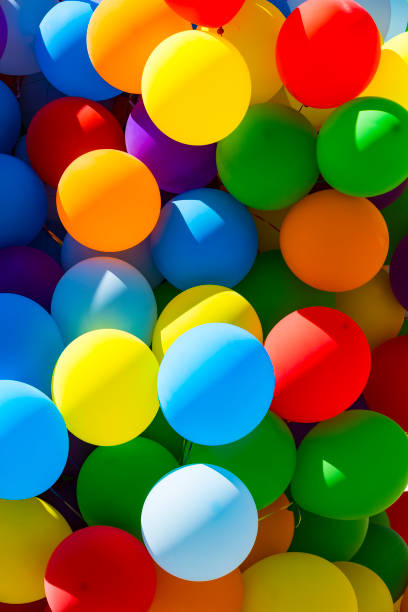Balloon: (158, 323, 274, 446), (140, 463, 258, 580), (51, 328, 161, 446), (138, 31, 253, 143), (293, 410, 408, 518), (264, 307, 371, 422), (276, 1, 380, 108), (151, 187, 259, 289), (55, 148, 162, 250), (280, 190, 386, 292), (44, 526, 158, 612), (316, 98, 408, 199), (51, 255, 160, 339), (1, 380, 68, 499), (244, 548, 358, 612), (1, 497, 68, 600), (1, 156, 48, 246)
